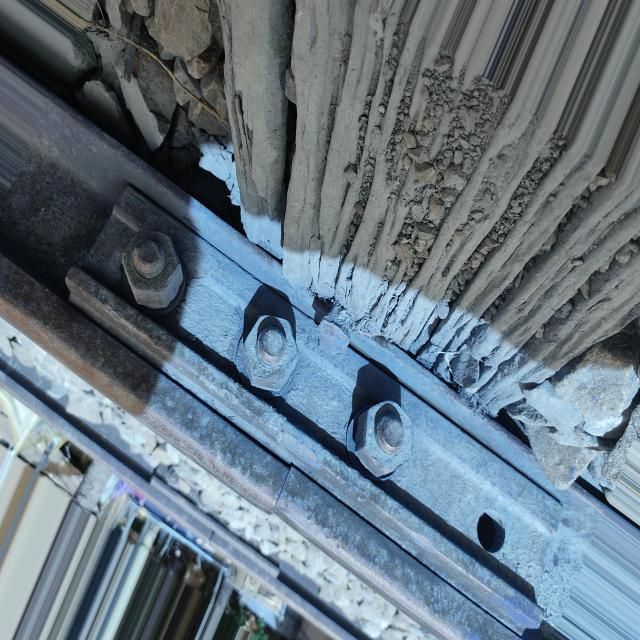Defective Joint: (56, 175, 563, 631)
Good Fasteners: (317, 303, 353, 356)
